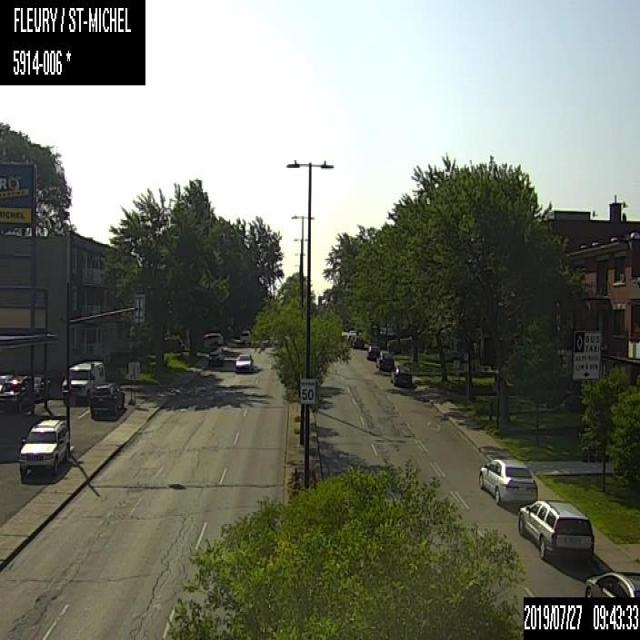vehicle: (518, 497, 594, 565), (478, 450, 539, 508), (18, 412, 70, 477), (62, 360, 105, 405), (582, 568, 639, 596), (89, 382, 126, 419), (0, 375, 35, 412), (232, 352, 254, 372), (376, 350, 396, 372), (392, 366, 413, 386), (208, 346, 226, 369), (202, 331, 224, 348), (366, 343, 381, 362), (349, 334, 364, 349), (239, 329, 251, 344)
